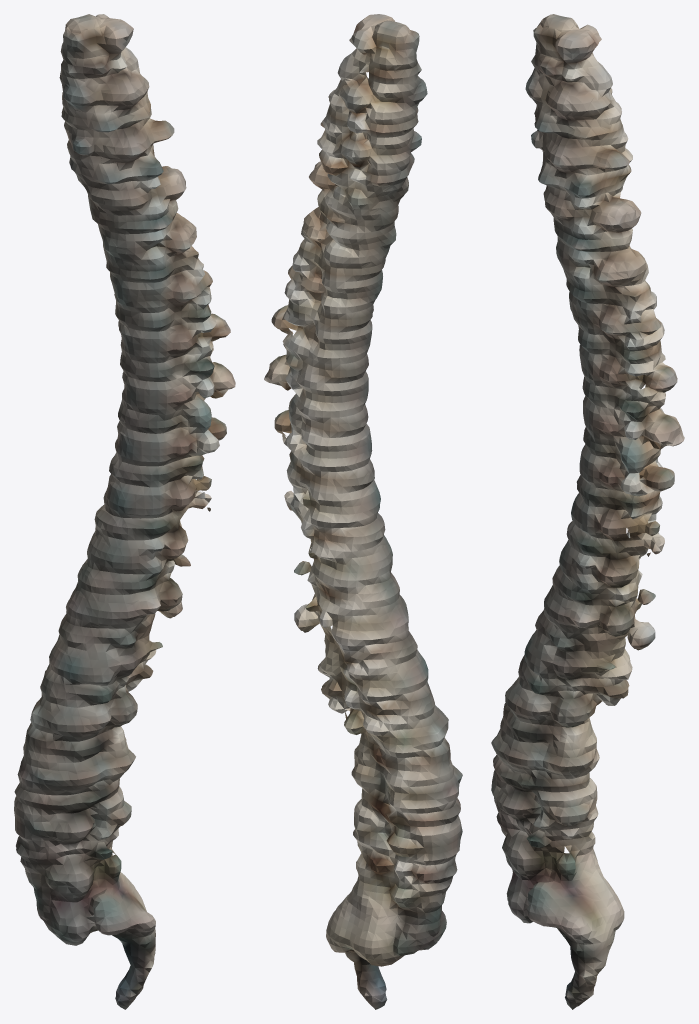
Rendered from spine.glb.
3 views of the same model, side by side, from view 1: azimuth 30°, elevation 25°; view 2: azimuth 150°, elevation 25°; view 3: azimuth 330°, elevation 25° (orthographic). The views are drawn at different scales.
Visible parts, largest first — view 1: world; view 2: world; view 3: world.
Boxes of the visible parts, x1,y1,x2,y2 form: world: (14, 14, 235, 1009); world: (264, 14, 462, 1009); world: (491, 14, 684, 1009).
Bounding box in the file's own units: 0.2216 × 1.04 × 0.1068.
